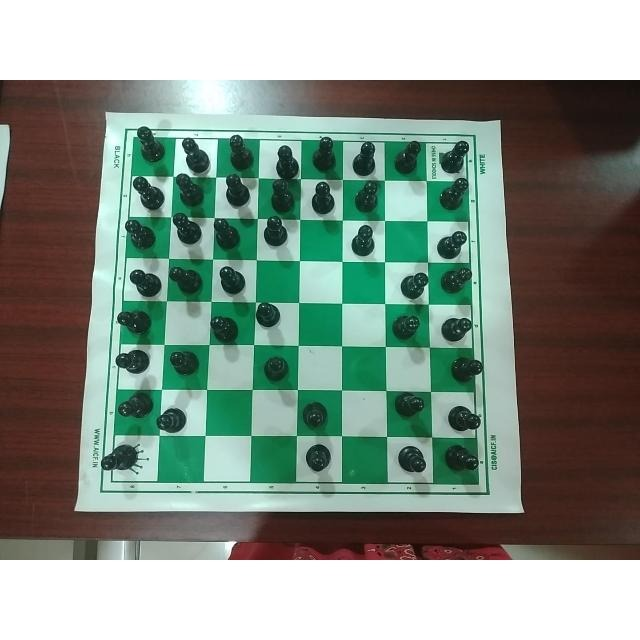black-pawn: (98, 442, 140, 476), (130, 174, 167, 211), (438, 308, 475, 344), (128, 264, 164, 300), (445, 401, 481, 437), (167, 262, 205, 296), (135, 124, 167, 164), (125, 215, 161, 250), (447, 352, 484, 386), (391, 136, 423, 175), (443, 442, 482, 474), (112, 346, 152, 377), (170, 211, 205, 246), (225, 131, 255, 171), (155, 400, 189, 435), (395, 444, 431, 477), (179, 134, 210, 172), (117, 393, 156, 423), (436, 227, 470, 261), (350, 138, 380, 176), (437, 140, 470, 174), (310, 134, 338, 174), (438, 176, 470, 211), (165, 347, 200, 379), (173, 174, 206, 207), (389, 309, 423, 341), (392, 389, 426, 421), (116, 307, 154, 335), (209, 310, 241, 343), (259, 351, 292, 383), (302, 440, 333, 474), (350, 223, 379, 259), (398, 269, 430, 301), (261, 215, 292, 248), (268, 180, 298, 214), (216, 265, 250, 295), (301, 398, 331, 432), (352, 180, 381, 215), (272, 142, 300, 178), (310, 179, 338, 215), (222, 174, 251, 208), (213, 217, 243, 249), (439, 267, 475, 293), (255, 300, 282, 331)
